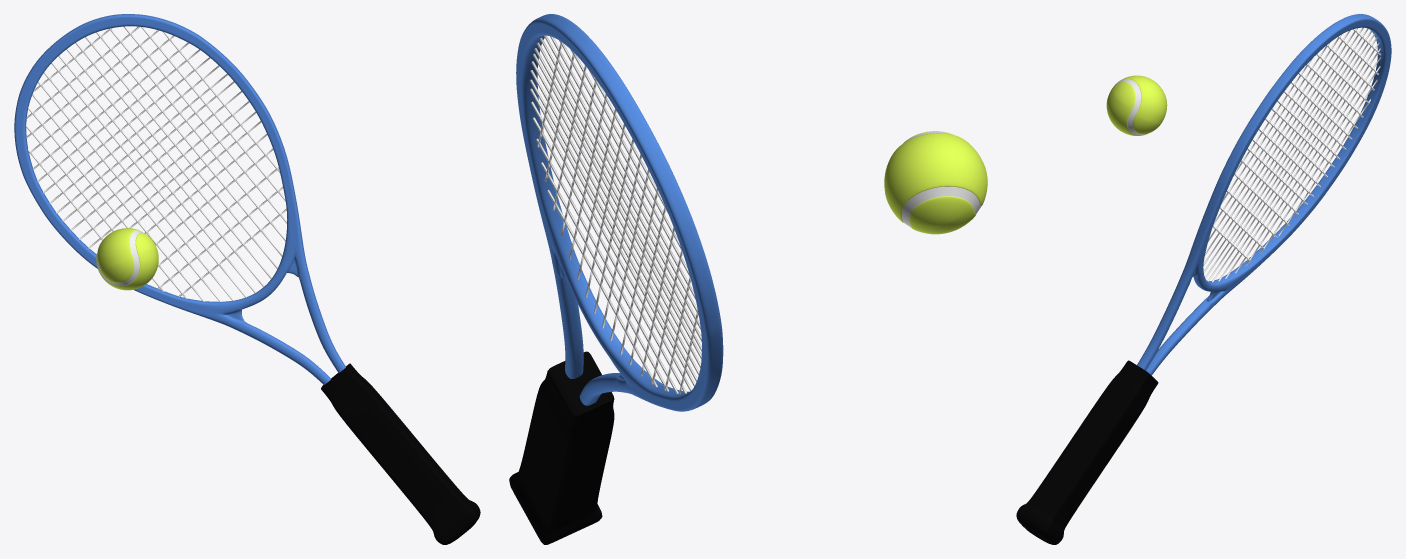
Rendered from TENNIS.fbx.
3 views of the same model, side by side, from view 1: azimuth 30°, elevation 25°; view 2: azimuth 150°, elevation 25°; view 3: azimuth 270°, elevation 25° (orthographic). The views are drawn at different scales.
Visible parts, largest first — view 1: Ball; view 2: Ball; view 3: Ball.
Part boxes in pixels (box(x1,y1,x2,y2)): Ball: box(14, 14, 480, 544); Ball: box(509, 14, 987, 544); Ball: box(1016, 14, 1391, 544).
Bounding box in the file's own units: 167 × 220 × 168.
